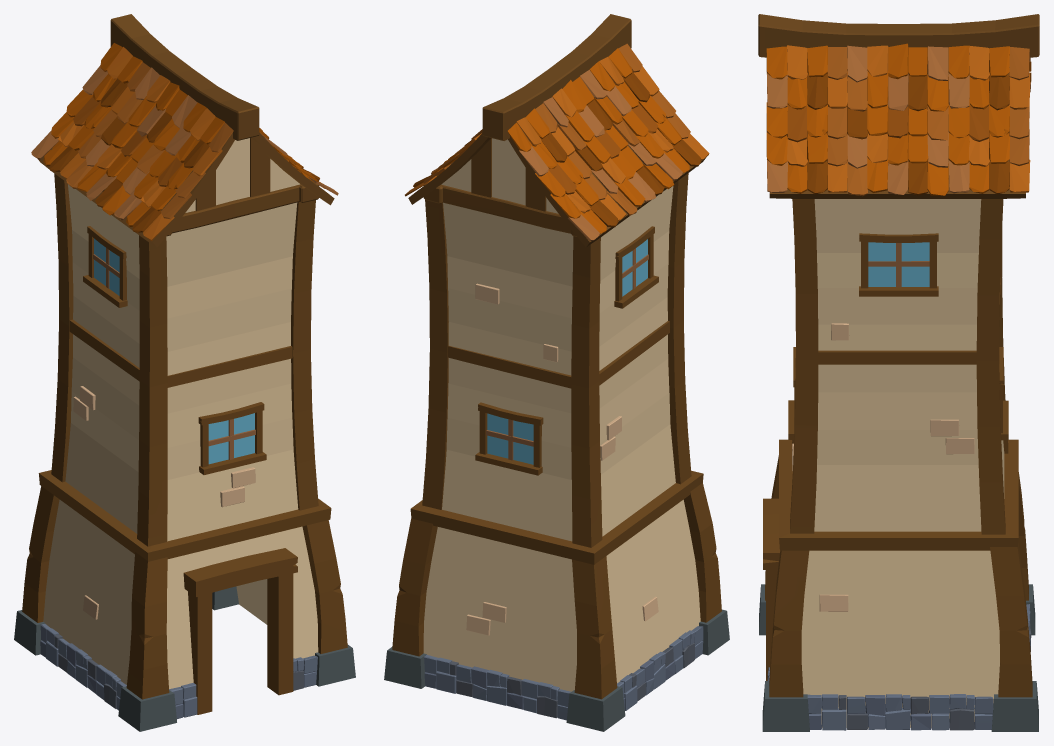
The model's file is MillPart_01.fbx.
3 views of the same model, side by side, from view 1: azimuth 30°, elevation 25°; view 2: azimuth 150°, elevation 25°; view 3: azimuth 270°, elevation 25° (orthographic). The views are drawn at different scales.
Visible parts, largest first — view 1: MillPart_01; view 2: MillPart_01; view 3: MillPart_01.
Part boxes in pixels (x1,y1,x2,y2): MillPart_01: (14, 14, 355, 731); MillPart_01: (384, 14, 729, 731); MillPart_01: (758, 14, 1039, 731).
Size of the model in its own units: 361 by 943 by 367.
